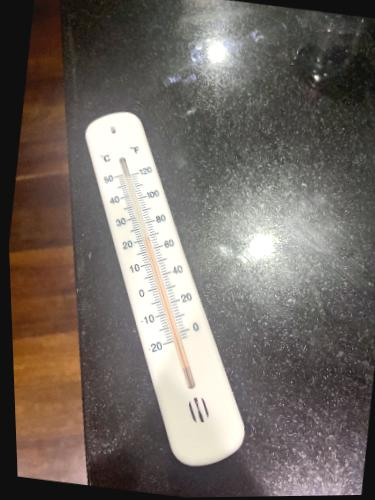thermo: (82, 106, 252, 467)
